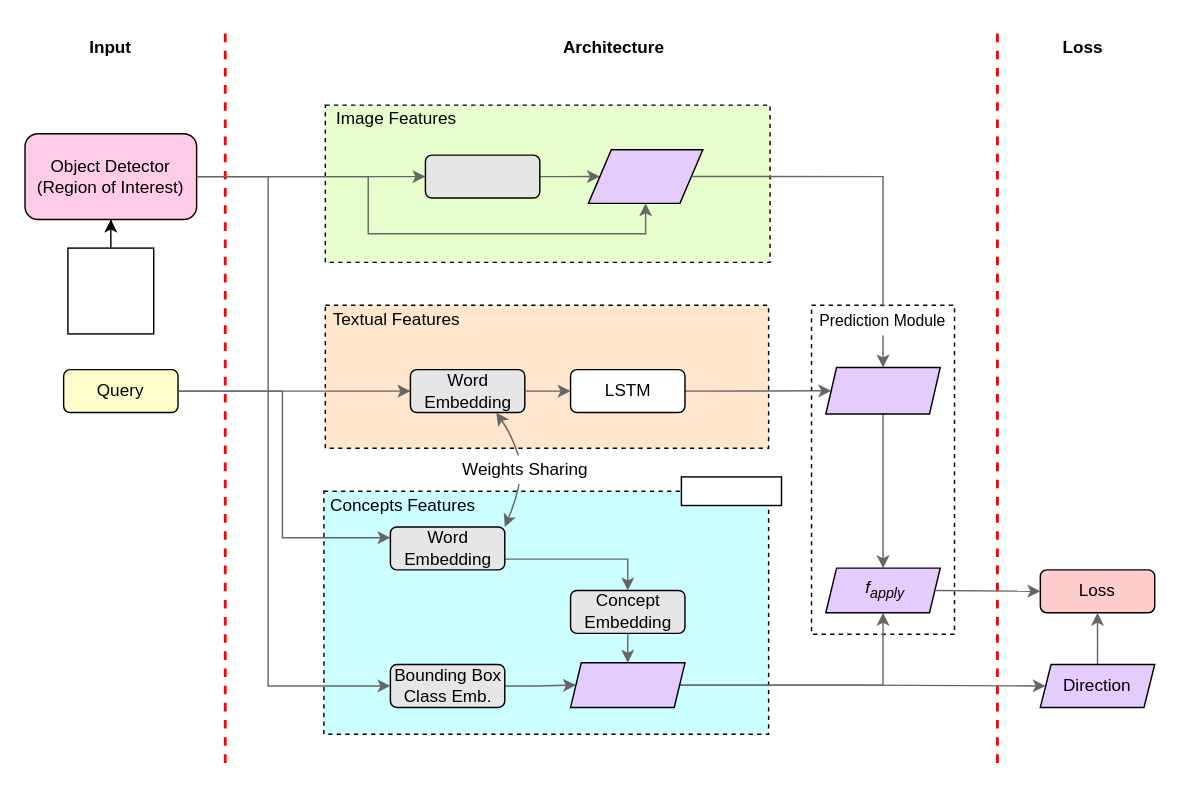
The diagram is 1180 pixels wide and 789 high, and some of its shapes have lost their labels. The shapes that lost their labels are listed below. From the top down, each one's centre as x and y in pixels, then its label:
At [482,176]: "Spatial Features".
At [645,175]: "Fusion Operator".
At [110,290]: "Image".
At [882,390]: "f sim".
At [730,490]: "No Training".
At [627,684]: "Concept Similarity".
